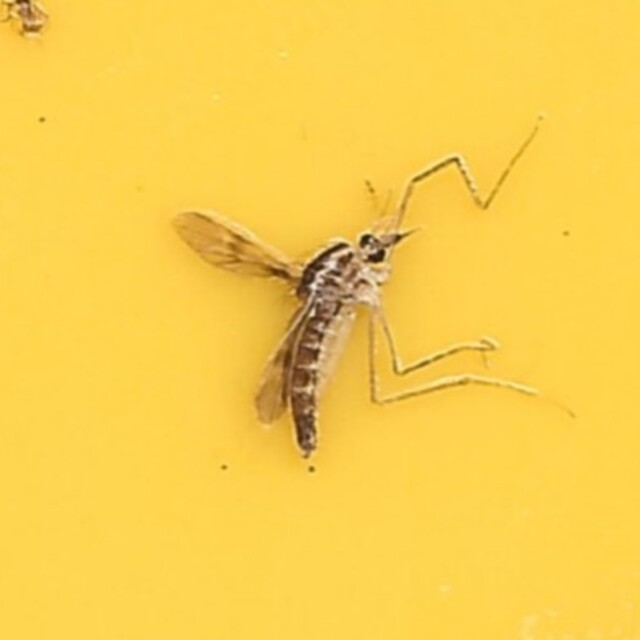Nematocera: (164, 156, 476, 484)
